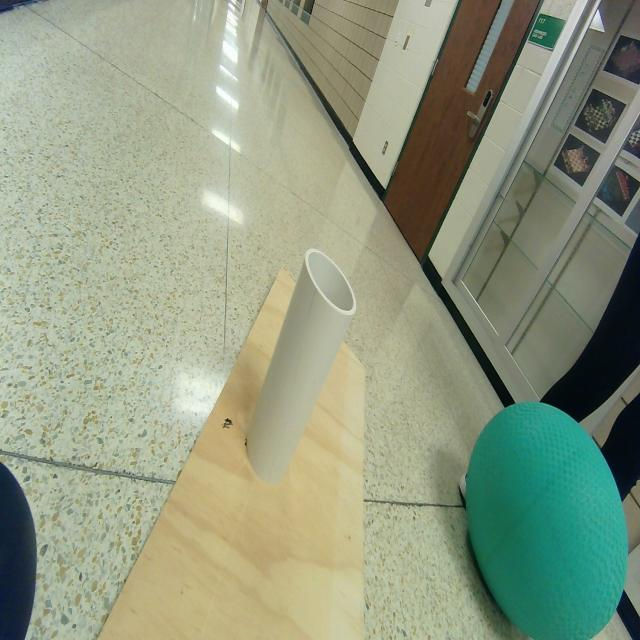algae: (460, 402, 628, 640)
coral: (246, 248, 356, 484)
